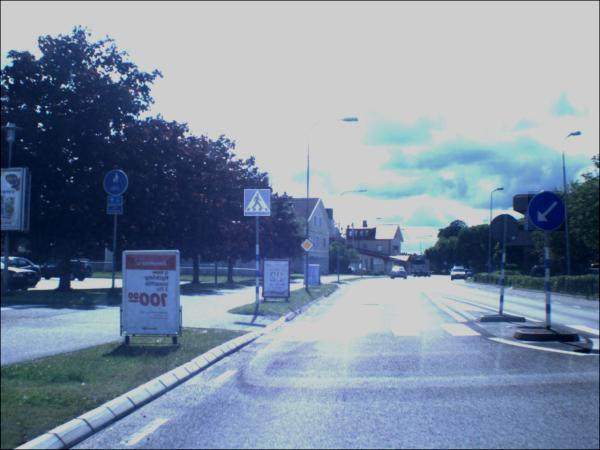PASS_RIGHT_SIDE: (528, 192, 566, 233)
PEDESTRIAN_CROSSING: (244, 190, 271, 218)
PRIORITY_ROAD: (301, 240, 314, 253)
